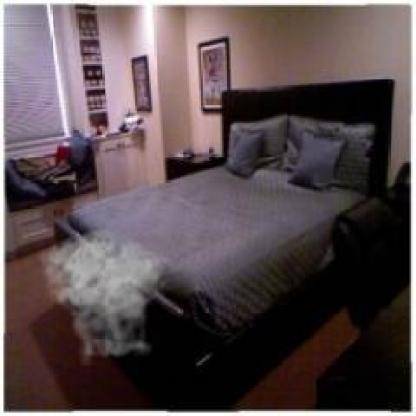Smoke: (36, 226, 177, 368)
